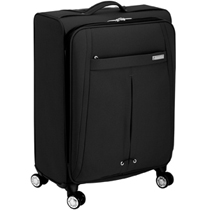suitcase: (30, 0, 178, 210)
